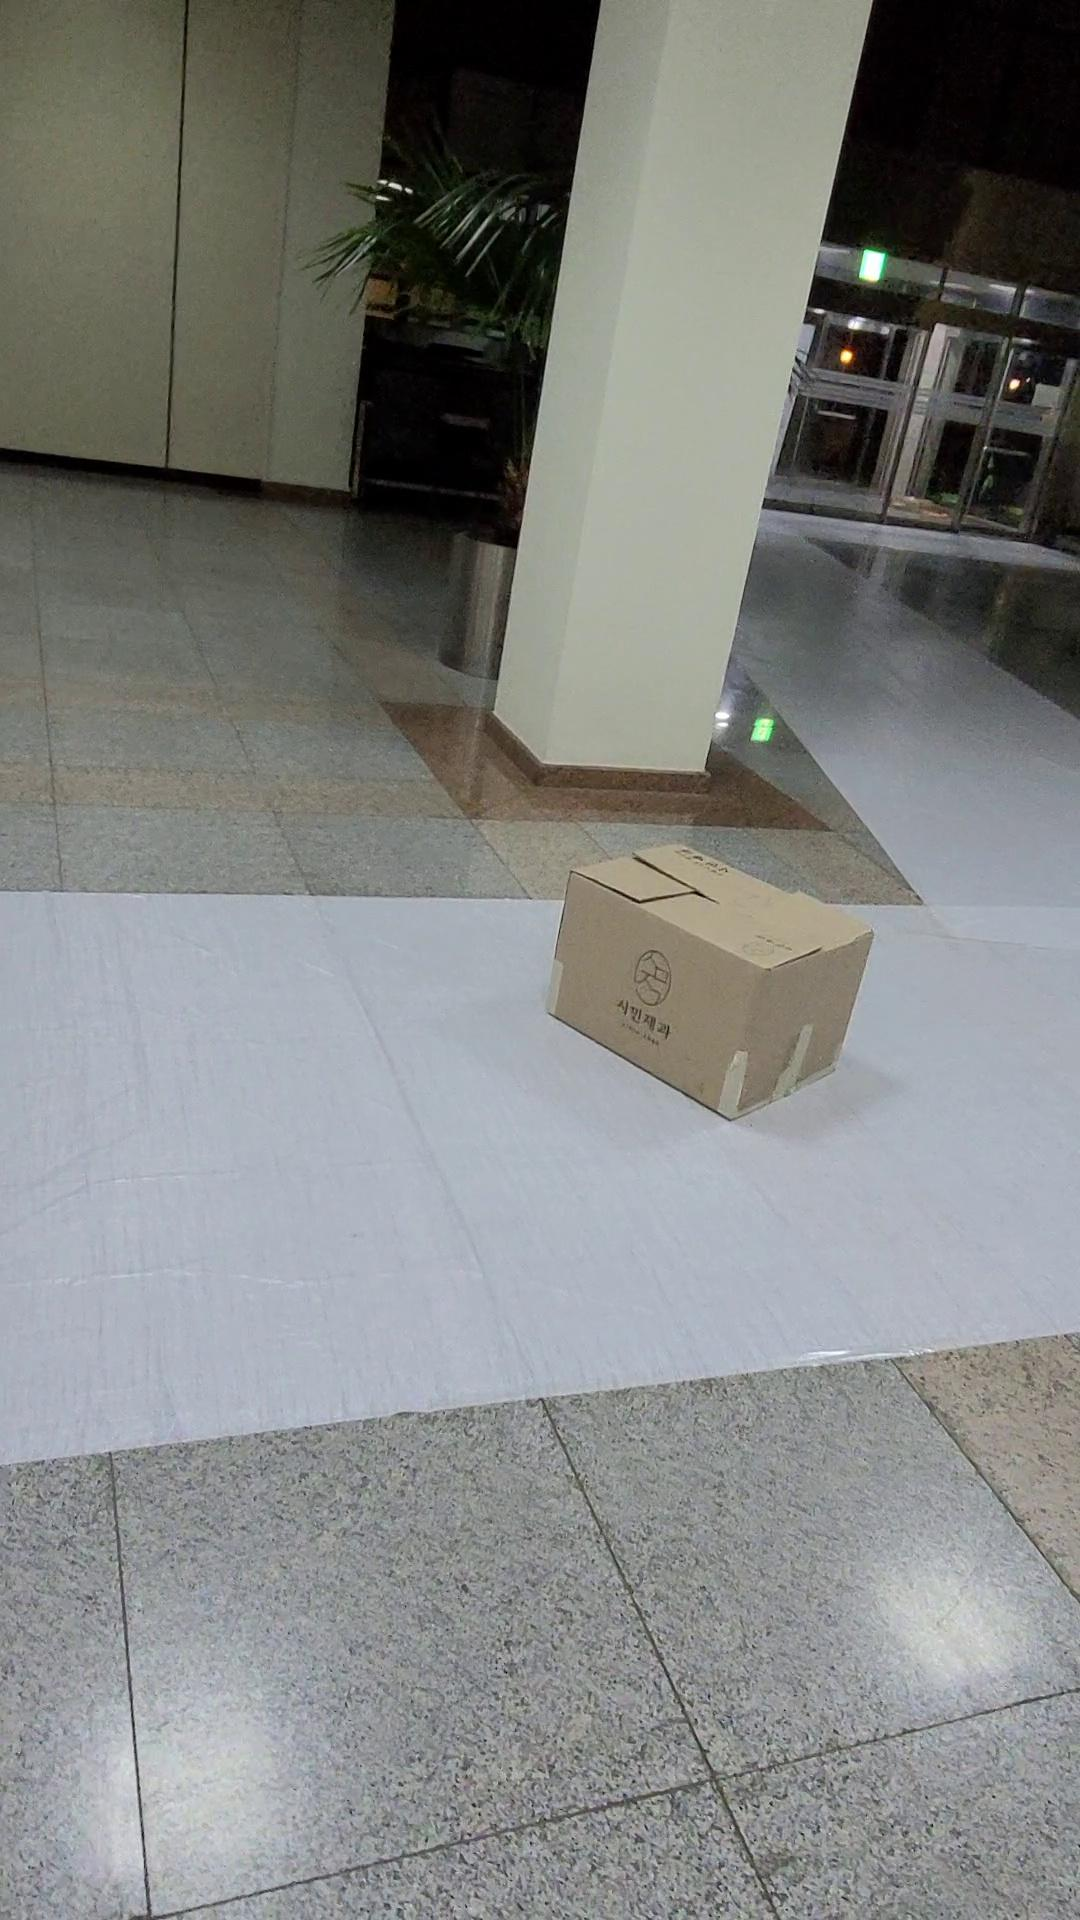Box: (488, 804, 927, 1175)
